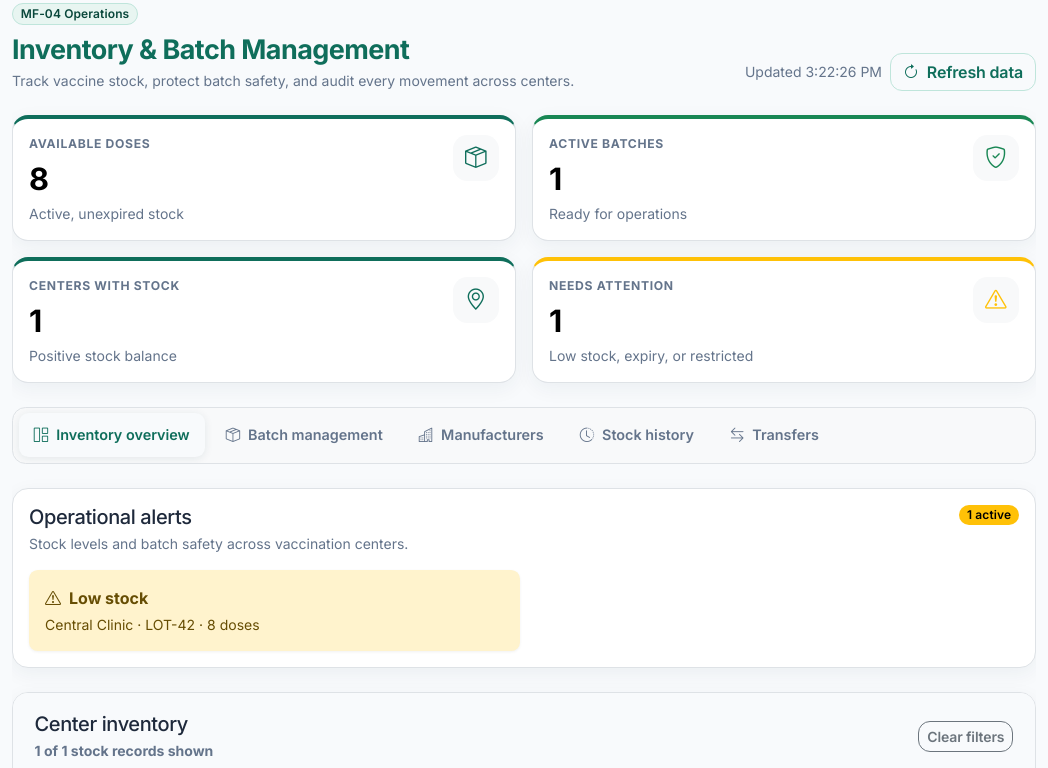
Test case: InventoryManagementPage › shows read-only transaction history
Click the button "Stock history".
click(637, 435)  # box [564, 413, 709, 457]
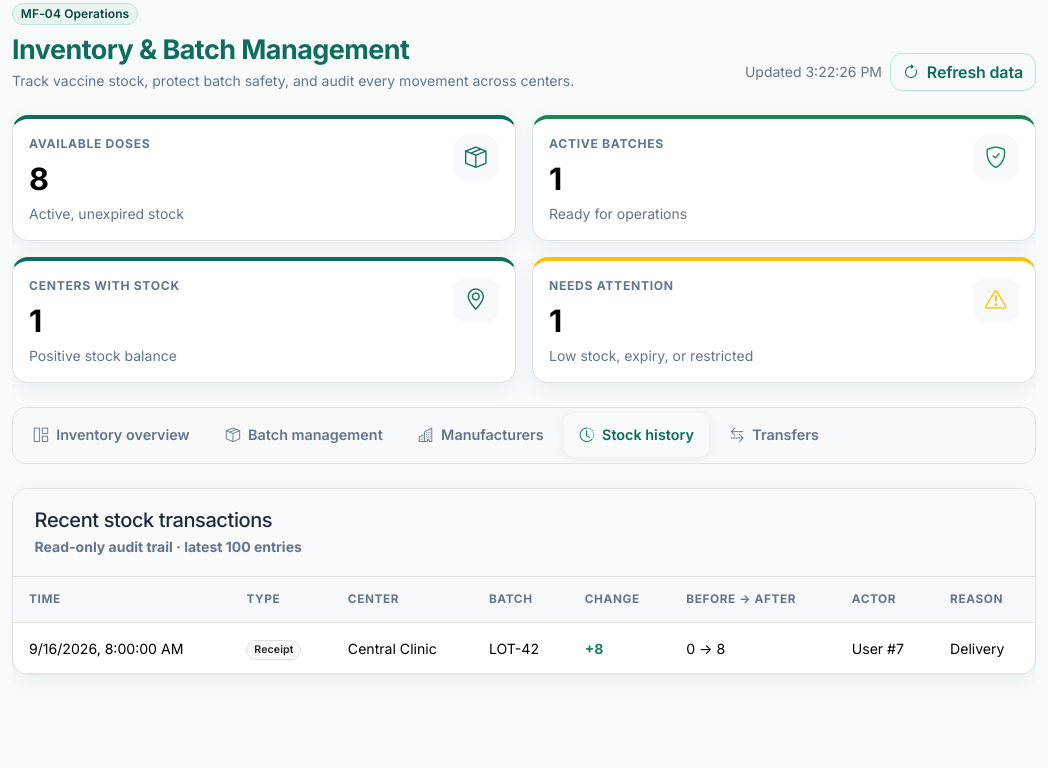
Check: the text "Delivery" is shown, box [934, 622, 1035, 674]
Check: the text "User #7" is shown, box [836, 622, 934, 674]
